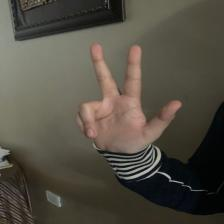three: (68, 42, 185, 161)
